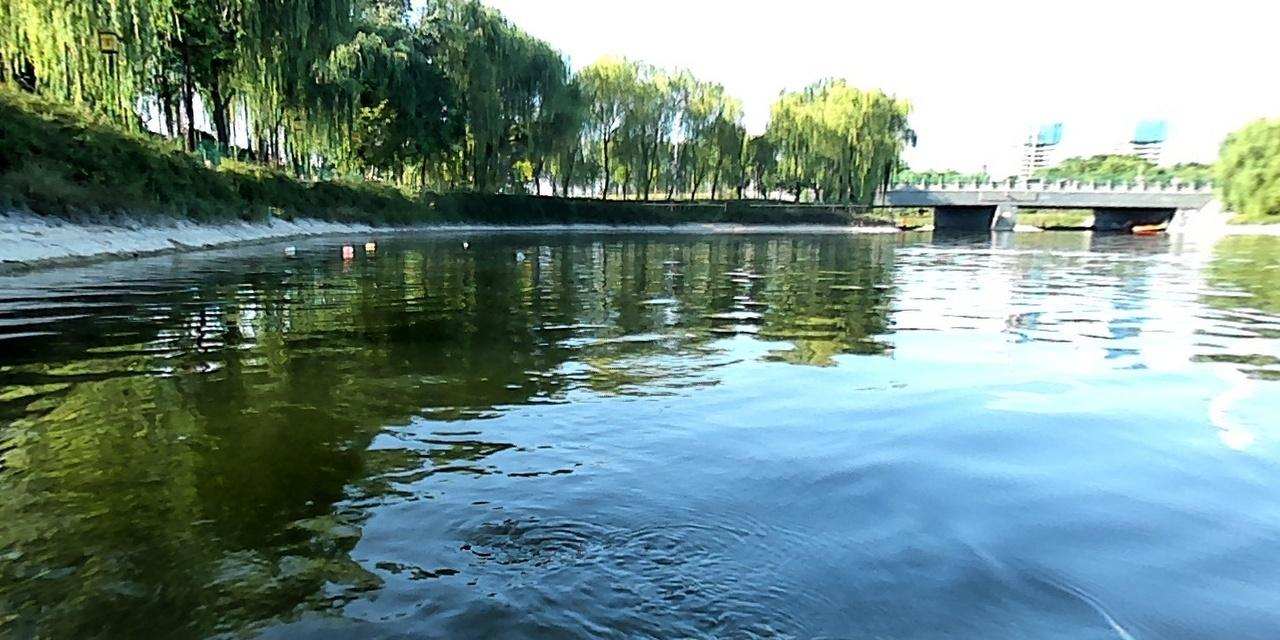bottle: (361, 239, 378, 250), (339, 244, 355, 253), (283, 243, 296, 252), (514, 249, 523, 260)
